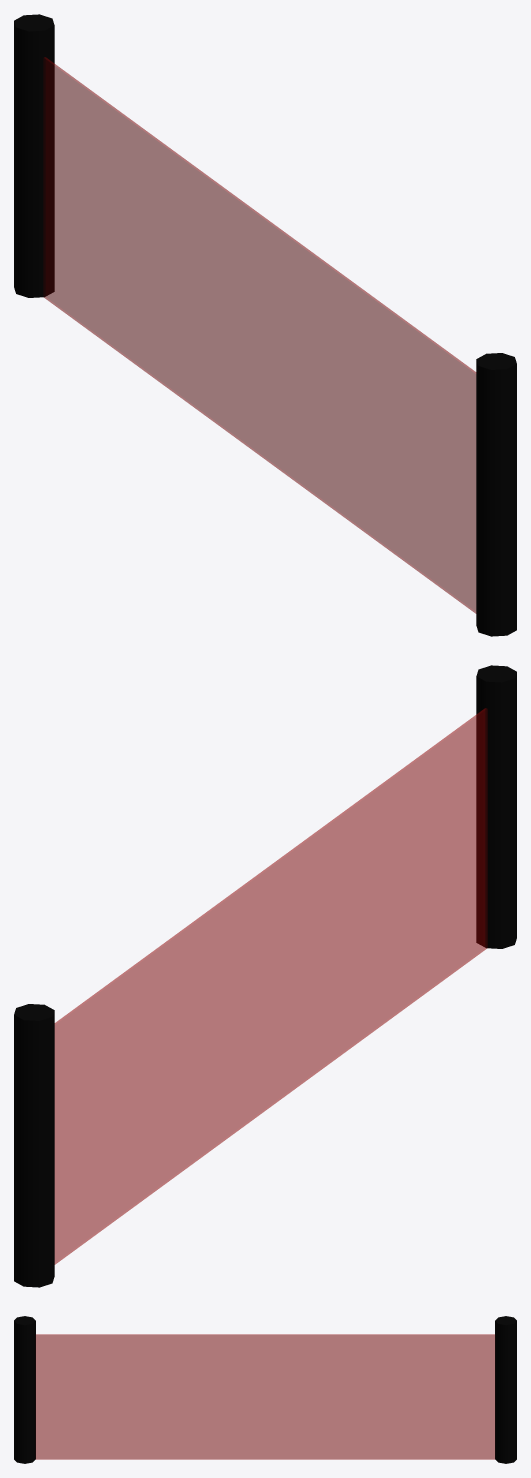
File: burke_wall.fbx
3 renders of one model, top to bottom at view 1: azimuth 30°, elevation 25°; view 2: azimuth 150°, elevation 25°; view 3: azimuth 270°, elevation 25°, orthographic. The views are drawn at different scales.
Parts seen in each view (by area): view 1: wall_mb; view 2: wall_mb; view 3: wall_mb.
Part boxes in pixels (left/top/right/bottom): wall_mb: left=14, top=14, right=516, bottom=636; wall_mb: left=14, top=665, right=516, bottom=1287; wall_mb: left=14, top=1316, right=516, bottom=1463.
Bounding box in the file's own units: 0.8176 × 5.72 × 18.82.
